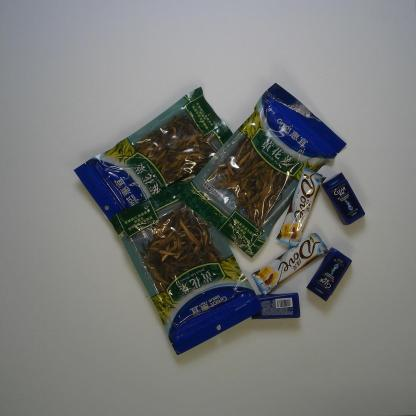Chocolate: (250, 232, 329, 296), (274, 165, 328, 248)
Dried Food: (176, 82, 348, 258), (109, 175, 265, 356), (73, 86, 238, 238)
Personal Hygiene: (306, 247, 352, 303), (322, 171, 366, 227), (251, 292, 301, 320)
